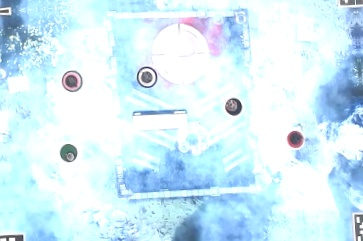black: (219, 96, 244, 120)
green: (55, 141, 79, 165)
pink_green: (60, 69, 85, 93)
red: (281, 129, 306, 153)
white: (134, 65, 158, 89)
